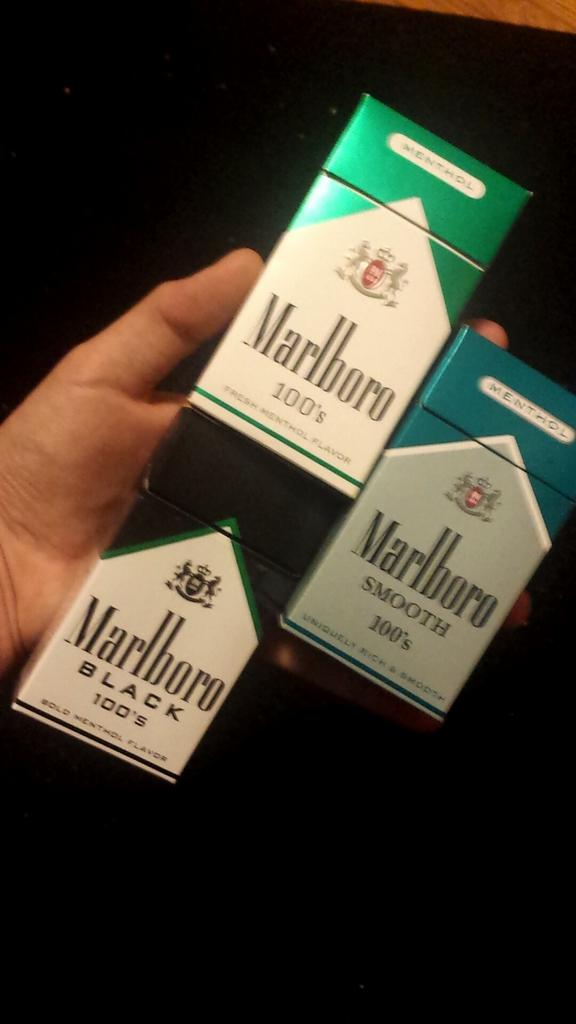marlboro_mentol: (246, 127, 478, 433), (343, 359, 558, 673)
